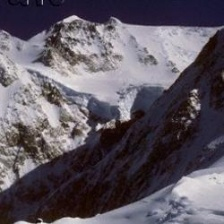neutral: (5, 17, 220, 219)
